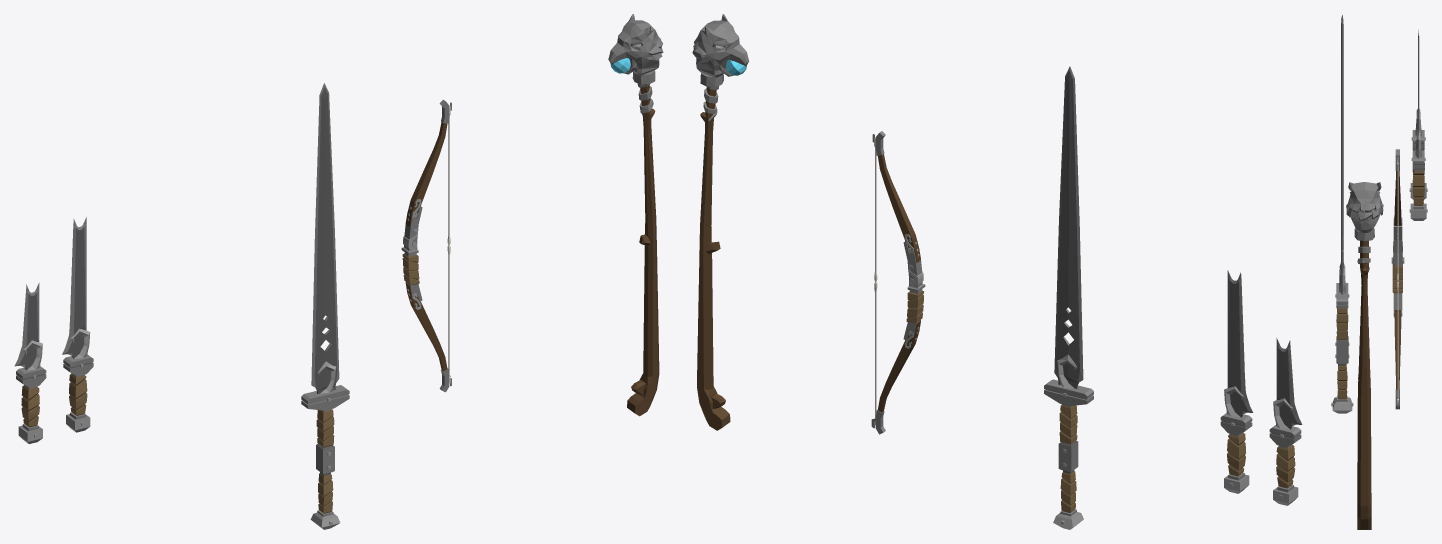
Rendered from WEAPONS_noble_01.fbx.
The picture shows the model from 3 angles, left to right: view 1: azimuth 30°, elevation 25°; view 2: azimuth 150°, elevation 25°; view 3: azimuth 270°, elevation 25°; orthographic projection. The views are drawn at different scales.
Parts seen in each view (by area): view 1: WEAPONSETS_Noble_03exp:greatsword, WEAPONSETS_Noble_03exp:staff, WEAPONSETS_Noble_03exp:daggers, WEAPONSETS_Noble_03exp:bow; view 2: WEAPONSETS_Noble_03exp:greatsword, WEAPONSETS_Noble_03exp:staff, WEAPONSETS_Noble_03exp:daggers, WEAPONSETS_Noble_03exp:bow; view 3: WEAPONSETS_Noble_03exp:staff, WEAPONSETS_Noble_03exp:greatsword, WEAPONSETS_Noble_03exp:bow, WEAPONSETS_Noble_03exp:daggers.
Part boxes in pixels (box(x1,y1,x2,y2)): WEAPONSETS_Noble_03exp:greatsword: box(301, 83, 349, 529); WEAPONSETS_Noble_03exp:staff: box(608, 14, 663, 416); WEAPONSETS_Noble_03exp:daggers: box(14, 217, 93, 443); WEAPONSETS_Noble_03exp:bow: box(401, 99, 451, 392); WEAPONSETS_Noble_03exp:greatsword: box(1044, 66, 1093, 529); WEAPONSETS_Noble_03exp:staff: box(692, 14, 748, 430); WEAPONSETS_Noble_03exp:daggers: box(1220, 270, 1302, 505); WEAPONSETS_Noble_03exp:bow: box(871, 131, 925, 434); WEAPONSETS_Noble_03exp:staff: box(1346, 182, 1383, 529); WEAPONSETS_Noble_03exp:greatsword: box(1331, 15, 1353, 413); WEAPONSETS_Noble_03exp:bow: box(1391, 149, 1404, 409); WEAPONSETS_Noble_03exp:daggers: box(1409, 30, 1427, 220).
Size of the model in its own units: 1431 by 991 by 217.
